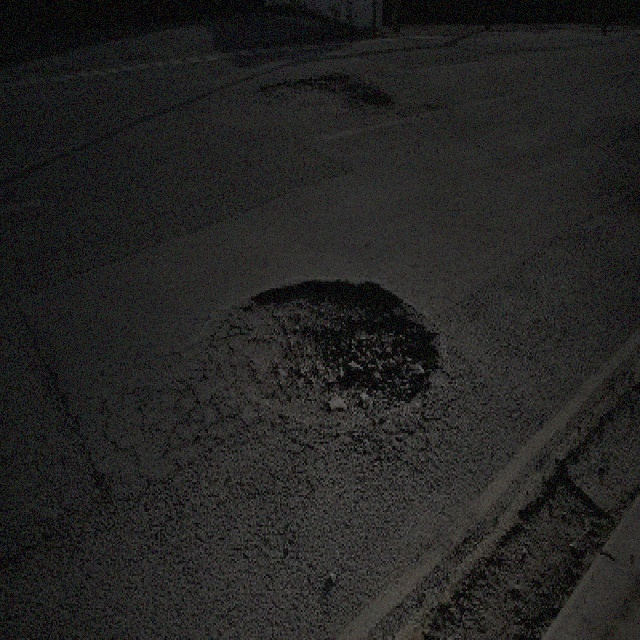pothole: (413, 461, 613, 636), (218, 273, 442, 420), (251, 66, 394, 120)
